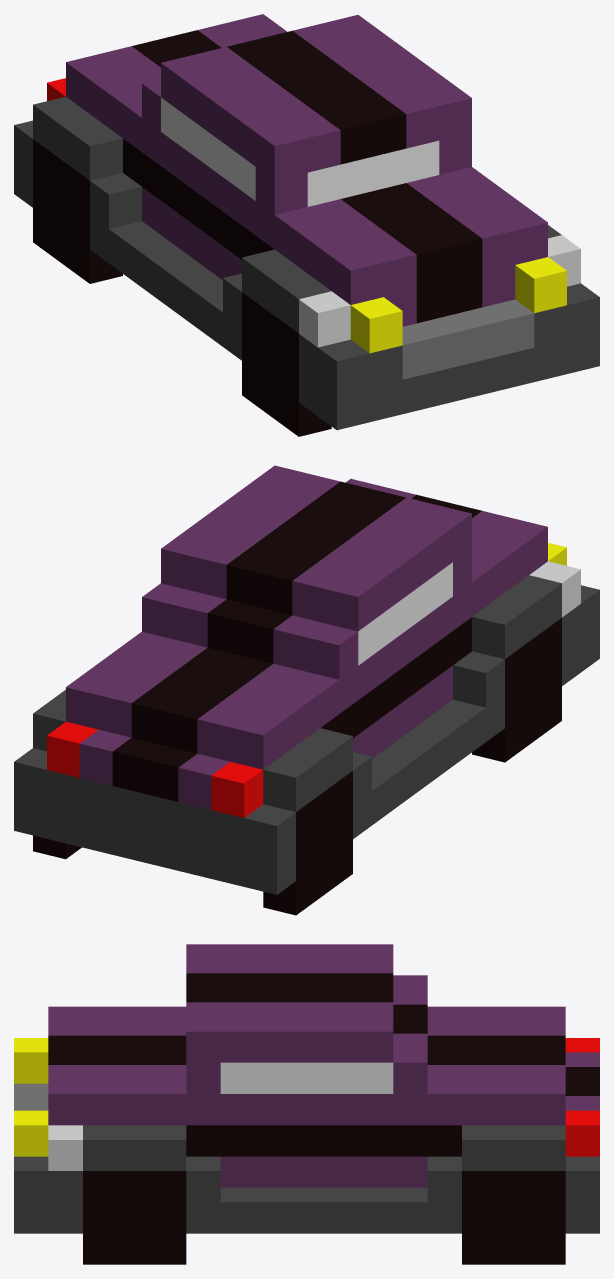
File: CAR3.obj
3 renders of one model, top to bottom at view 1: azimuth 30°, elevation 25°; view 2: azimuth 150°, elevation 25°; view 3: azimuth 270°, elevation 25°, orthographic. The views are drawn at different scales.
Bounding box in the file's own units: 0.8 × 0.7 × 1.7.
Materials: 1 (1 with a texture image).
